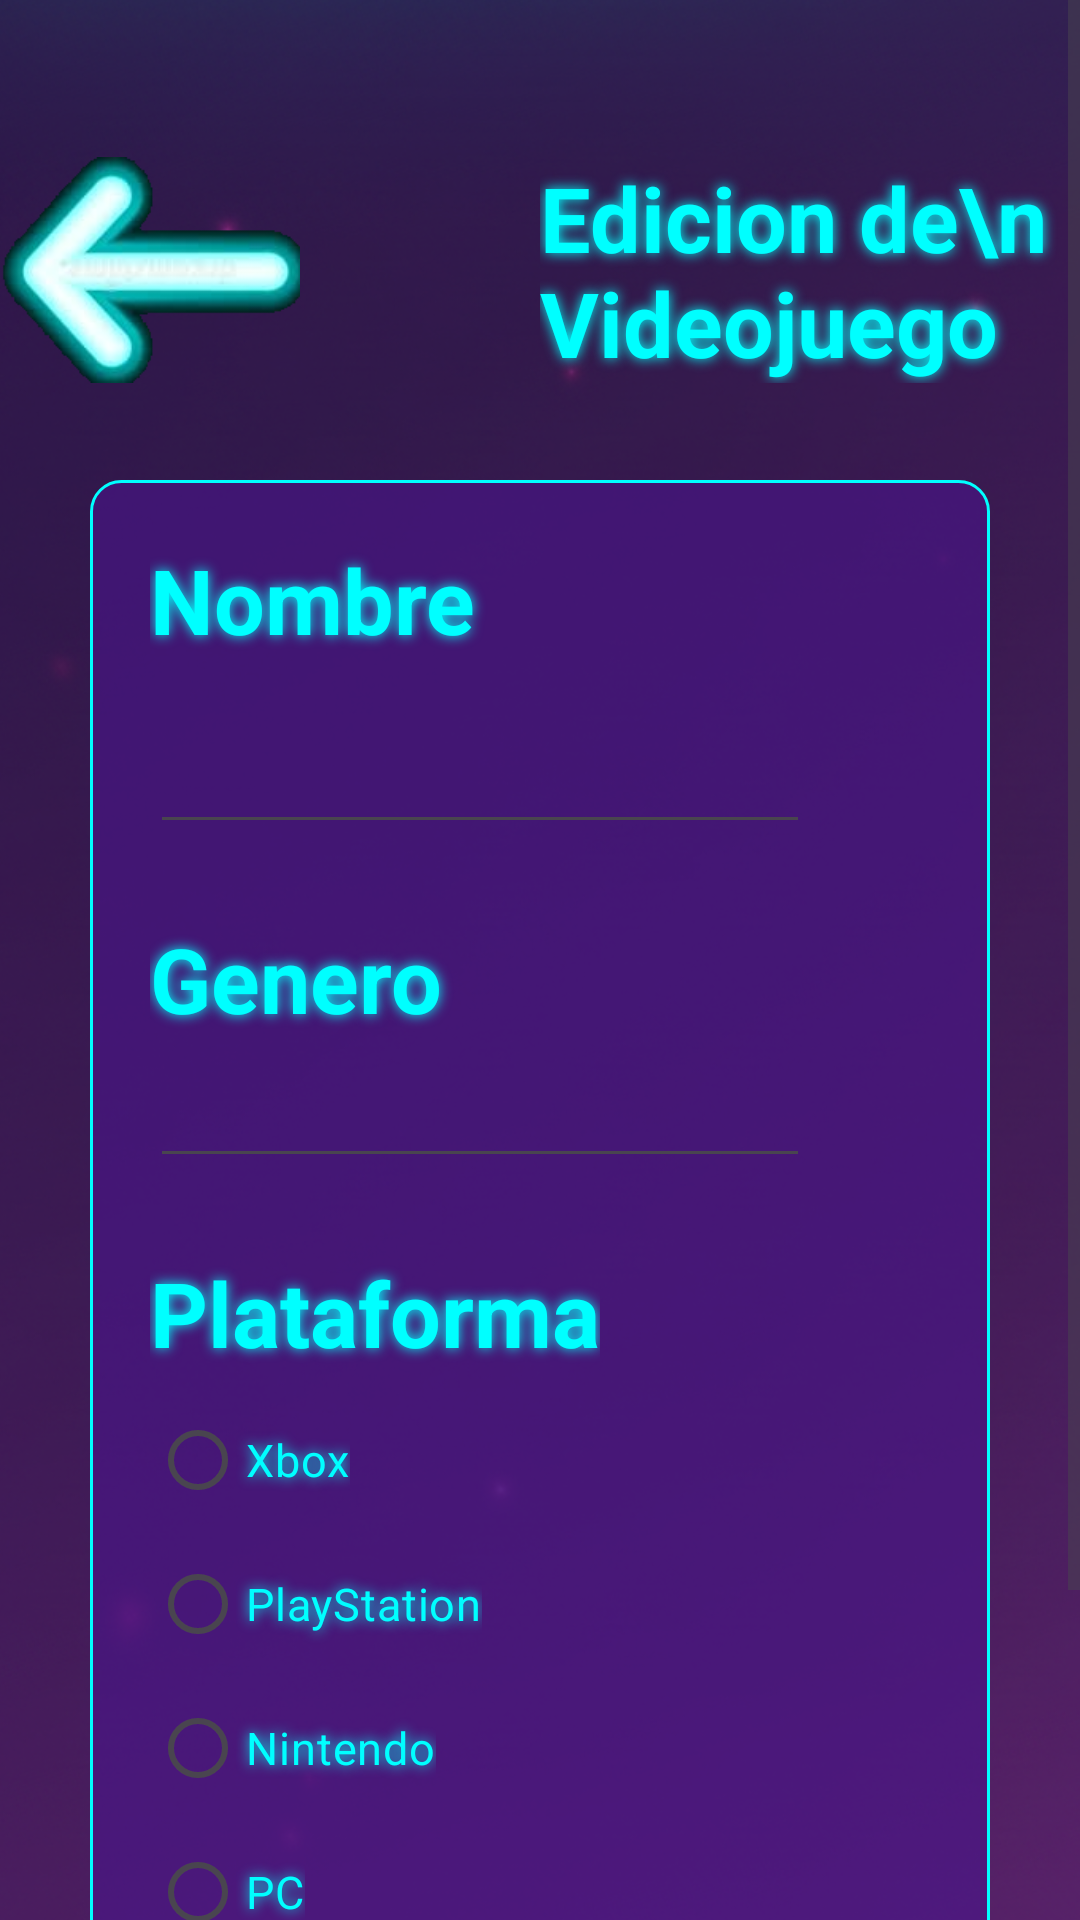

Where to tap for icons on this 1080 × 1920 app screen, as (x,y):
atras: (151,270)
